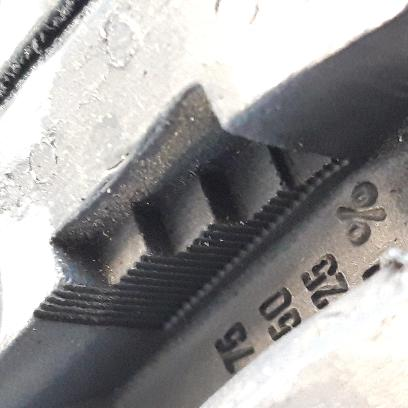temoin:100: (30, 80, 357, 339)
